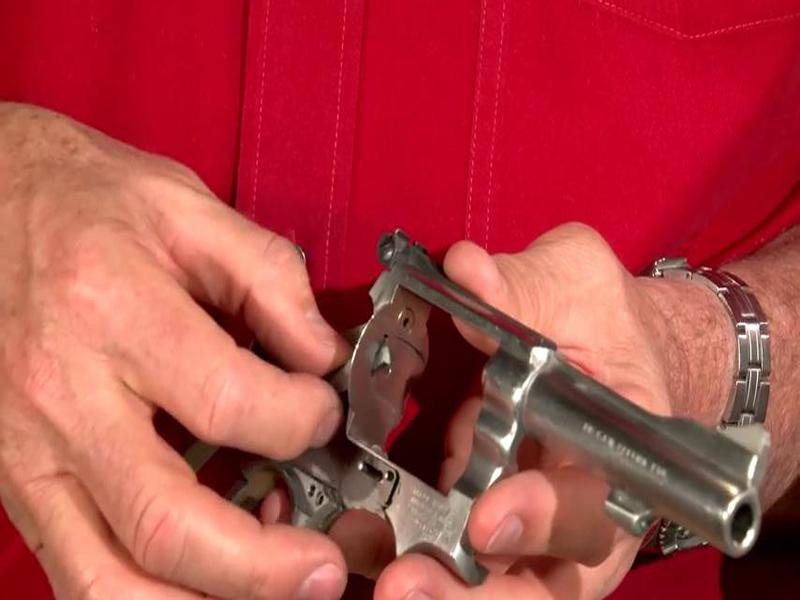Revolver: (167, 219, 778, 600)
